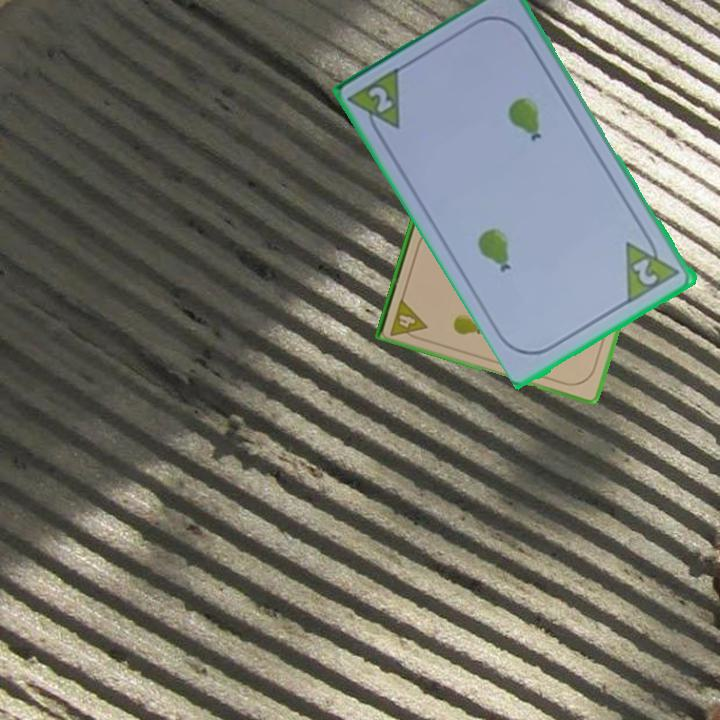2p: (630, 255, 662, 289), (365, 82, 397, 116)
4p: (386, 295, 430, 343)
